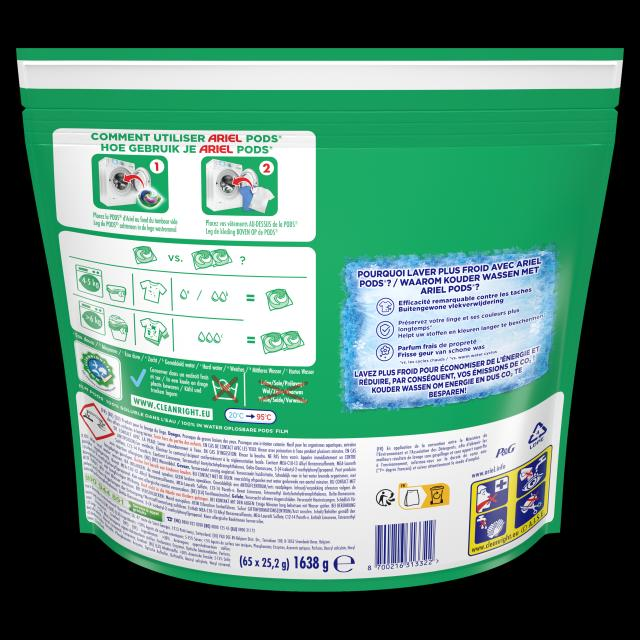GHS_Symbol_CORROSION: (80, 403, 115, 441)
